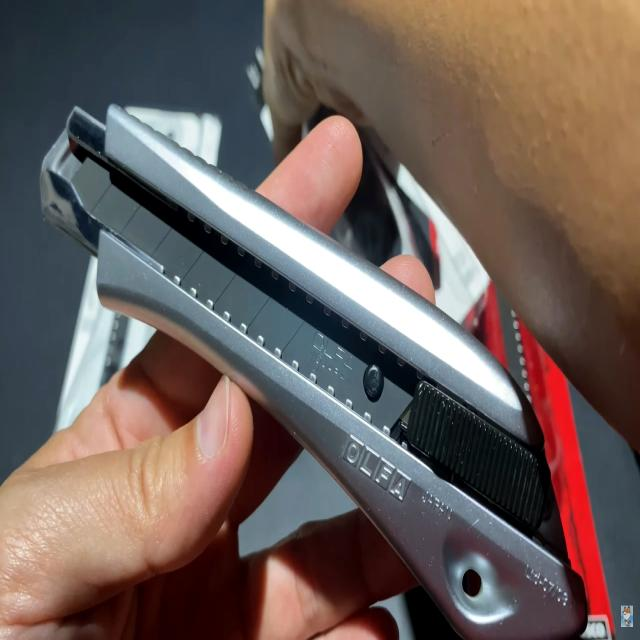cutter: (15, 2, 628, 640)
